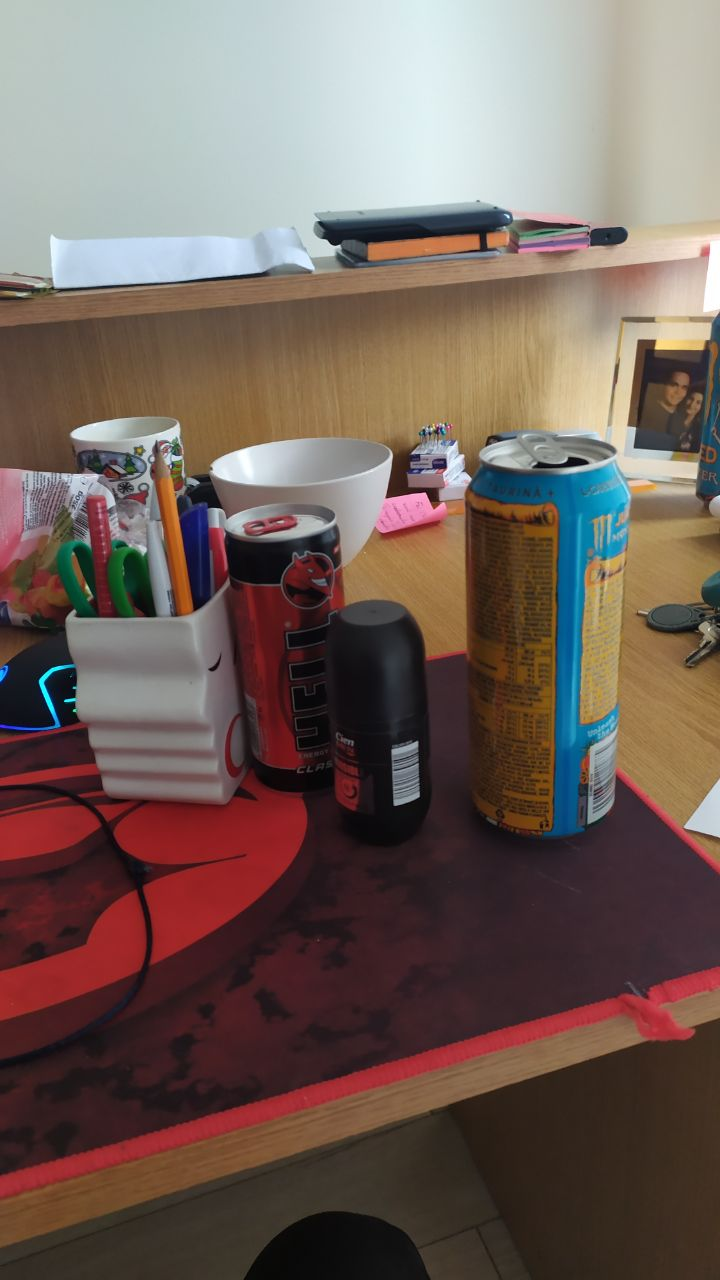Can: (468, 433, 623, 840), (227, 501, 345, 796)
